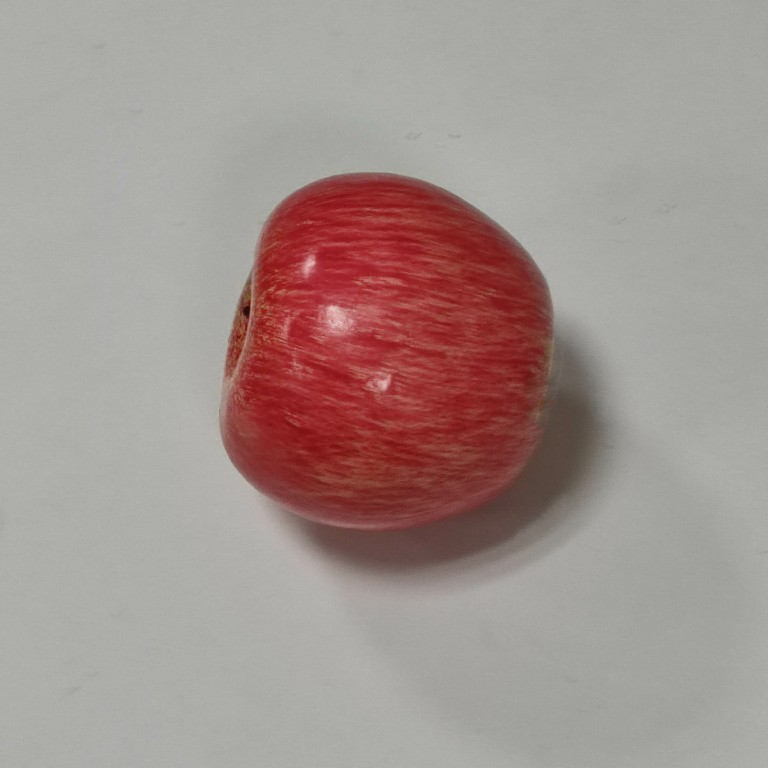fruit_apple: (214, 170, 559, 539)
